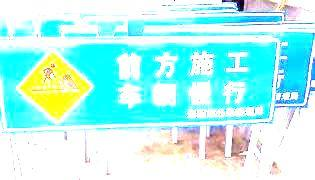sign: (1, 41, 271, 123)
